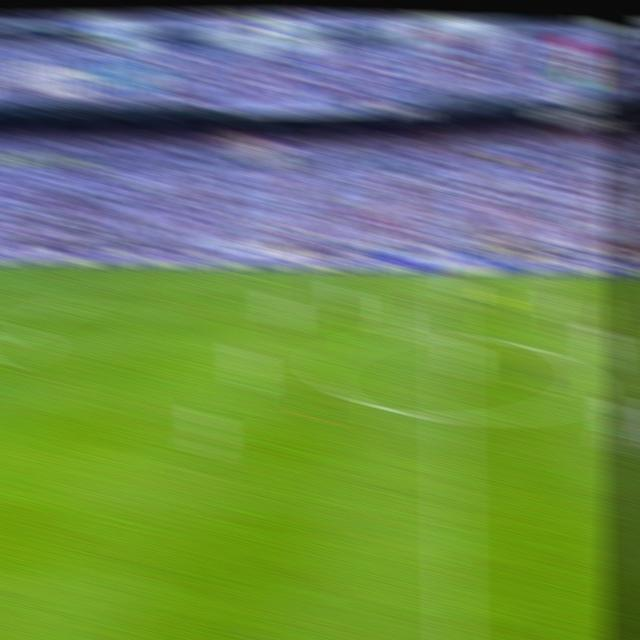bigarea_bottom_outter: (13, 316, 40, 335)
halfcircle_bottom: (435, 398, 468, 435)
halfcircle_top: (435, 321, 464, 350)
midline_top_intersection: (435, 268, 463, 287)
